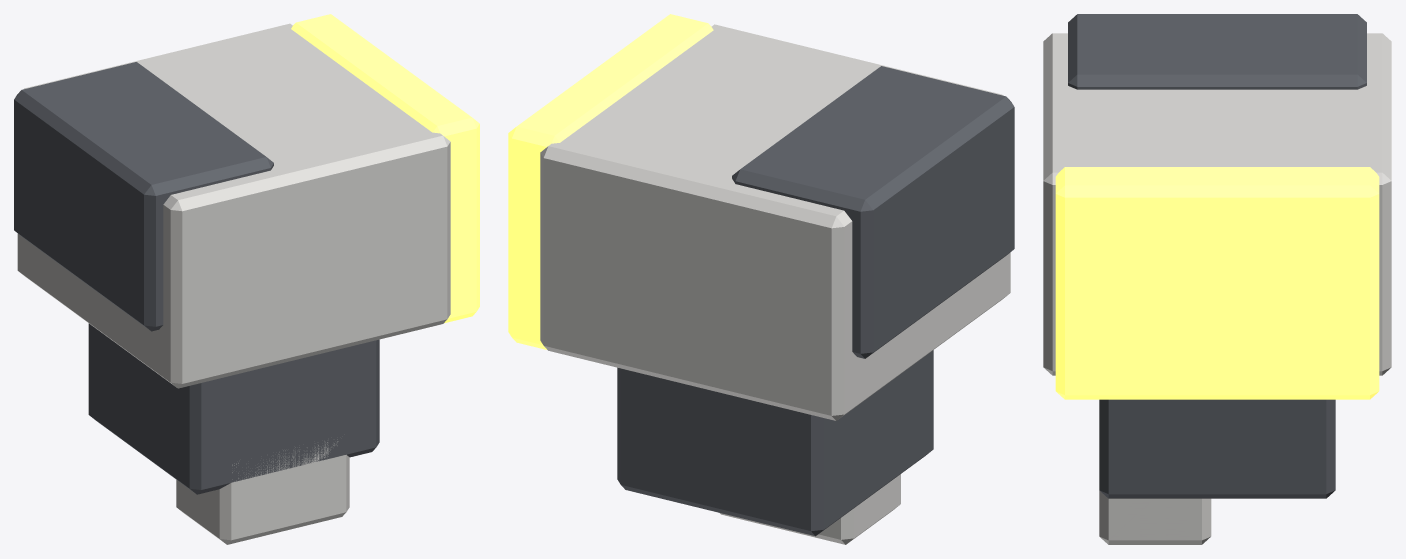
The model's file is tankhead_arm_right_upper.glb.
3 views of the same model, side by side, from view 1: azimuth 30°, elevation 25°; view 2: azimuth 150°, elevation 25°; view 3: azimuth 270°, elevation 25° (orthographic). The views are drawn at different scales.
Parts seen in each view (by area): view 1: tankhead_arm_right_upper; view 2: tankhead_arm_right_upper; view 3: tankhead_arm_right_upper.
Part boxes in pixels (x1,y1,x2,y2): tankhead_arm_right_upper: (14, 14, 479, 544); tankhead_arm_right_upper: (508, 14, 1014, 544); tankhead_arm_right_upper: (1043, 14, 1391, 544).
Size of the model in its own units: 0.66 by 0.75 by 0.56.
